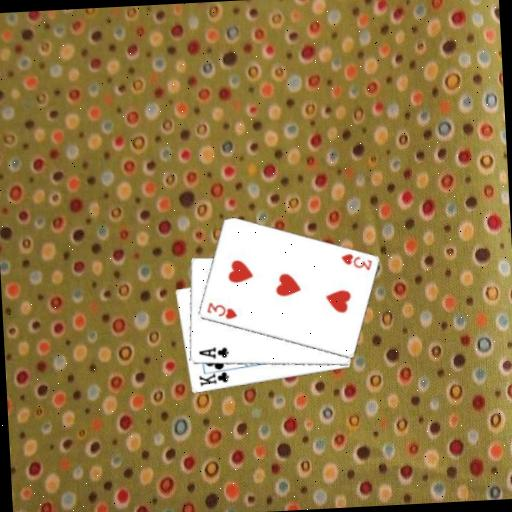3H: (338, 249, 374, 274), (203, 299, 239, 323)
AC: (195, 344, 230, 362)
KC: (196, 366, 234, 388)
